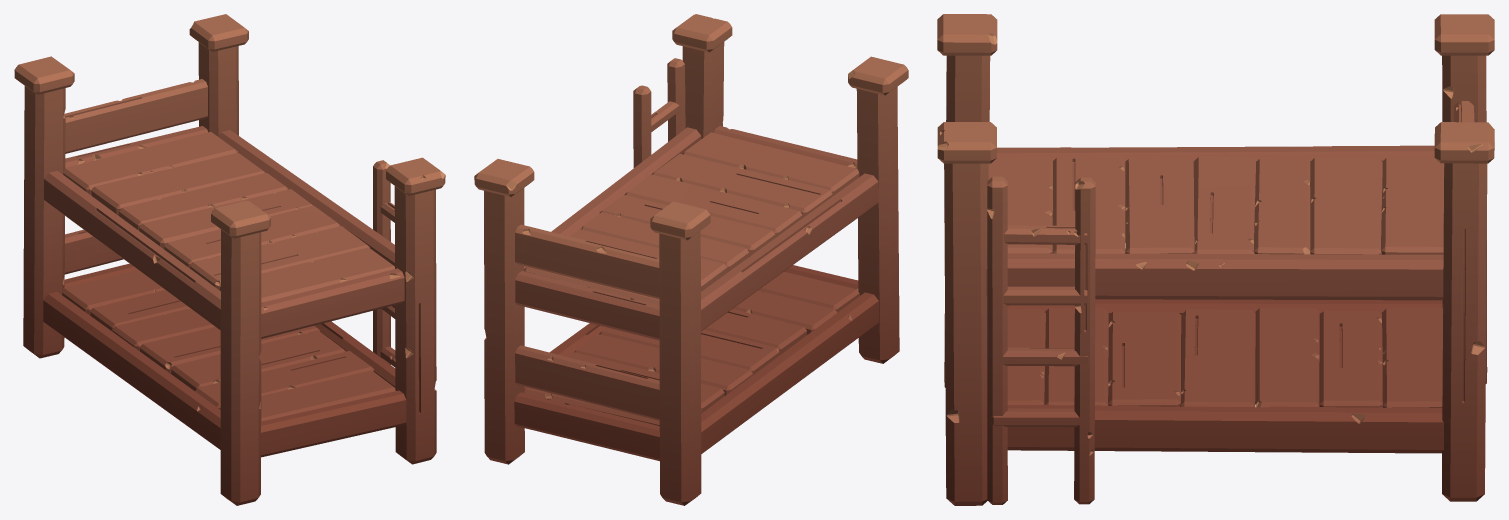
Rendered from bunk_bed.glb.
3 renders of one model, left to right at view 1: azimuth 30°, elevation 25°; view 2: azimuth 150°, elevation 25°; view 3: azimuth 270°, elevation 25°, orthographic. The views are drawn at different scales.
Visible parts, largest first — view 1: bunk_bed; view 2: bunk_bed; view 3: bunk_bed.
Boxes of the visible parts, <box> form: bunk_bed: <box>14,14,445,505</box>; bunk_bed: <box>474,14,908,505</box>; bunk_bed: <box>937,14,1494,505</box>.
Size of the model in its own units: 1.88 by 2.42 by 3.32.
Materials: 1 (1 with a texture image).
